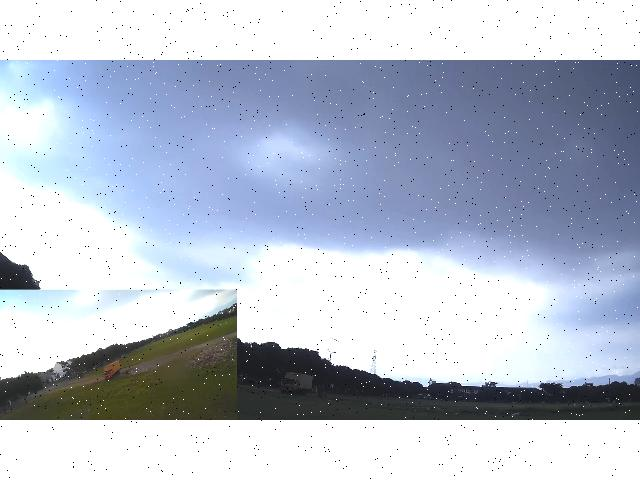Anti-Drone: (324, 334, 354, 350)
